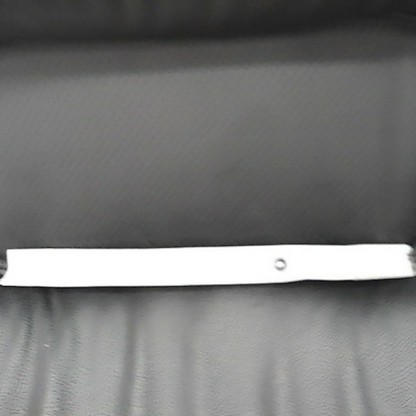ironball: (270, 254, 288, 273)
